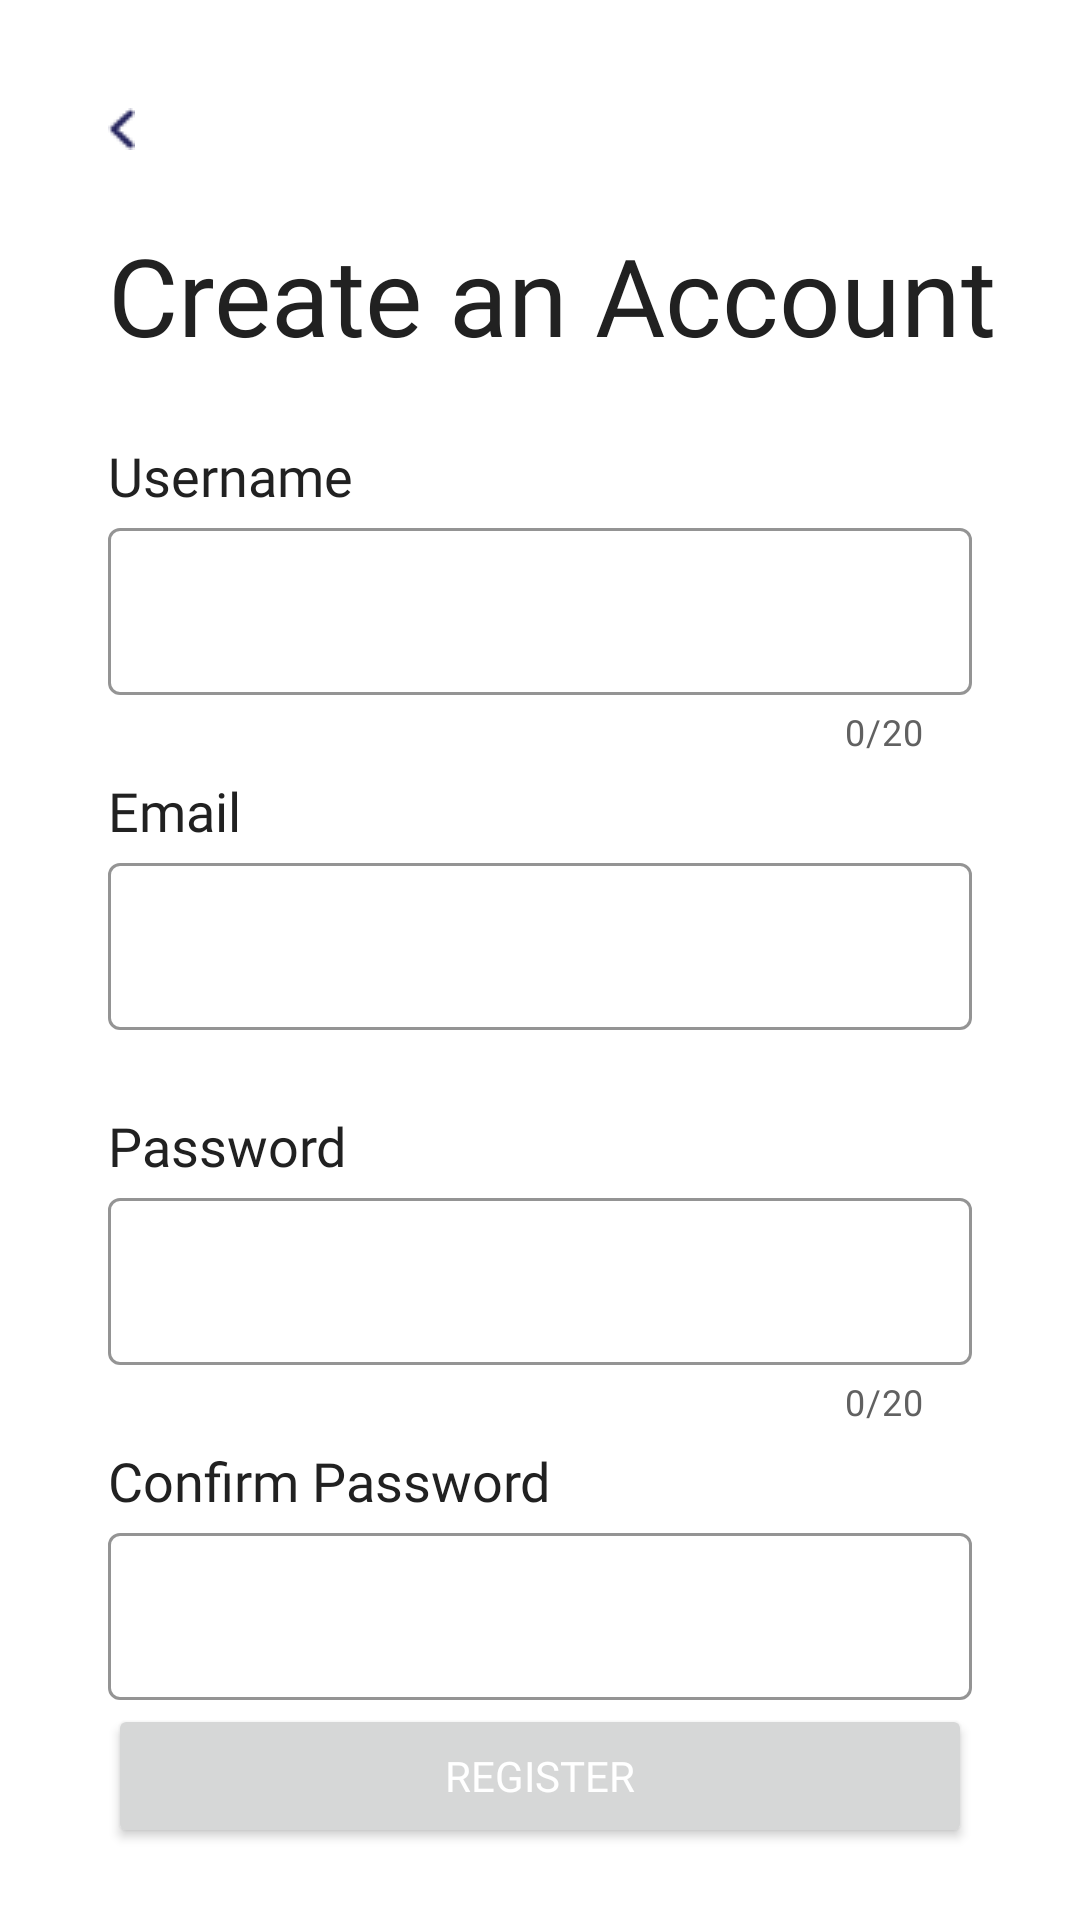

Point at icon controls on the screen. Image size 1080×1920, points as (x,y).
back arrow: (121,129)
